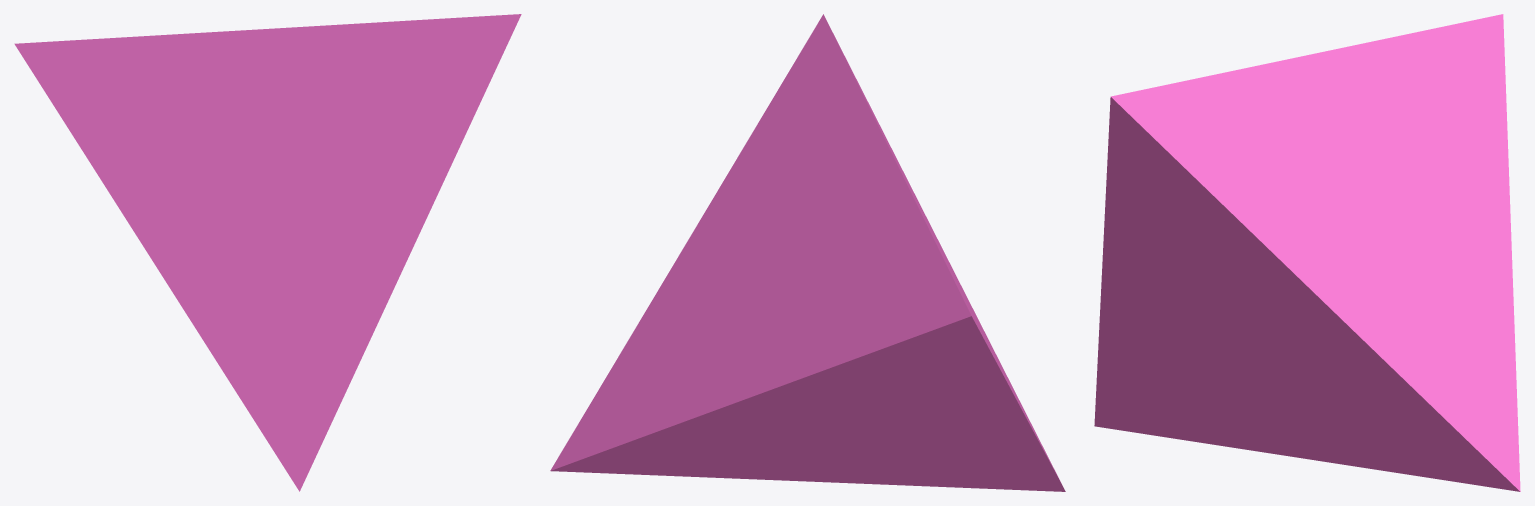
Rendered from InfoObras_AutorretratoConHijos.gltf.
3 renders of one model, left to right at view 1: azimuth 30°, elevation 25°; view 2: azimuth 150°, elevation 25°; view 3: azimuth 270°, elevation 25°, orthographic. The views are drawn at different scales.
Parts seen in each view (by area): view 1: InfoObras_AutorretratoConHijos; view 2: InfoObras_AutorretratoConHijos; view 3: InfoObras_AutorretratoConHijos.
Boxes of the visible parts, <box> form: InfoObras_AutorretratoConHijos: <box>14,14,521,491</box>; InfoObras_AutorretratoConHijos: <box>550,14,1065,491</box>; InfoObras_AutorretratoConHijos: <box>1094,14,1520,491</box>.
Bounding box in the file's own units: 0.2503 × 0.2466 × 0.2111.
